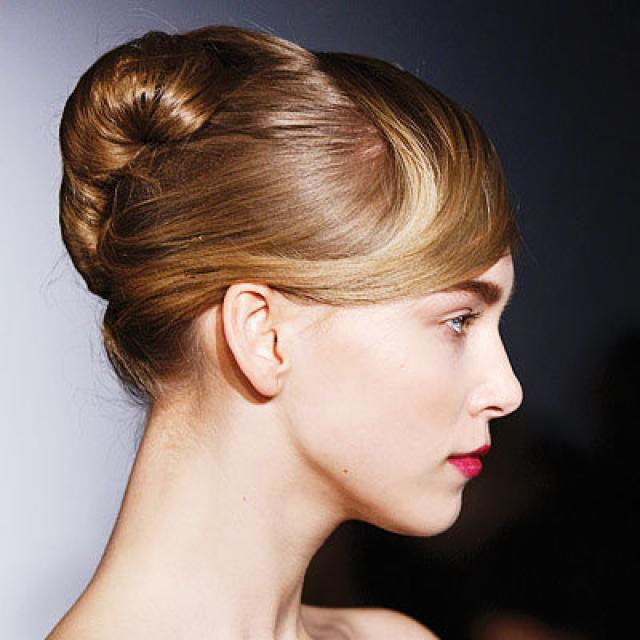Nonhelmet: (49, 8, 532, 551)
